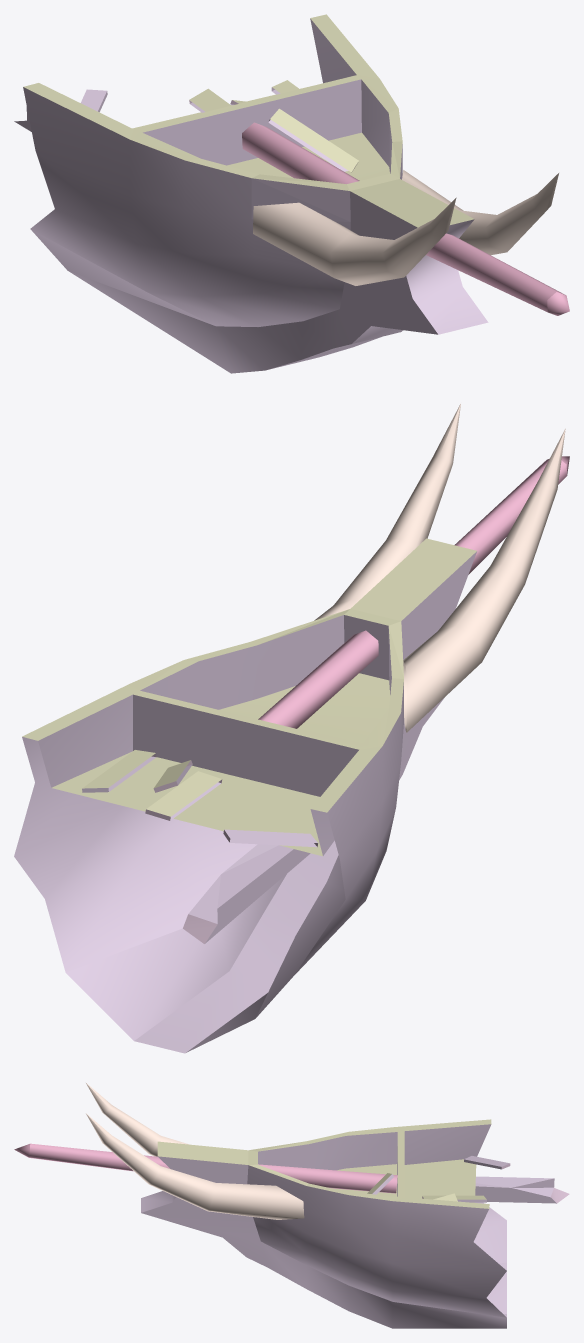
The model's file is ytlds_Object (12).fbx.
3 views of the same model, one above another, from view 1: azimuth 30°, elevation 25°; view 2: azimuth 150°, elevation 25°; view 3: azimuth 270°, elevation 25° (orthographic). The views are drawn at different scales.
Parts seen in each view (by area): view 1: Object12; view 2: Object12; view 3: Object12.
Boxes of the visible parts, x1=… form: Object12: x1=14, y1=14, x2=569, y2=373; Object12: x1=14, y1=403, x2=569, y2=1053; Object12: x1=14, y1=1083, x2=569, y2=1328.
Bounding box in the file's own units: 287 × 335 × 754.
